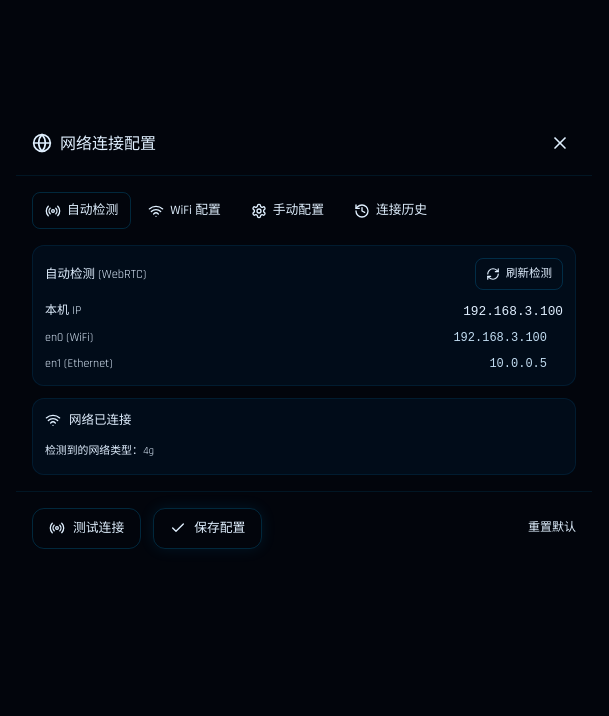
NetworkConfig › WiFi 扫描与连接 › 连接 WiFi: 输入密码后应持久化连接状态
The width and height of the screenshot is (609, 716).
Click the button "WiFi 配置" at (184, 211), box [135,192,234,229]
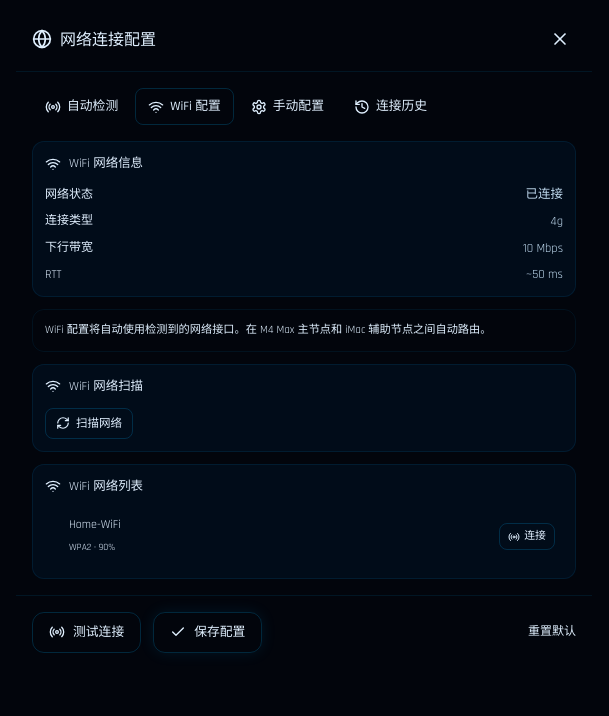
Expected: the text "Home-WiFi" is shown, [69,516,121,534]
Click the button "连接" at (527, 537), box [499,523,555,550]
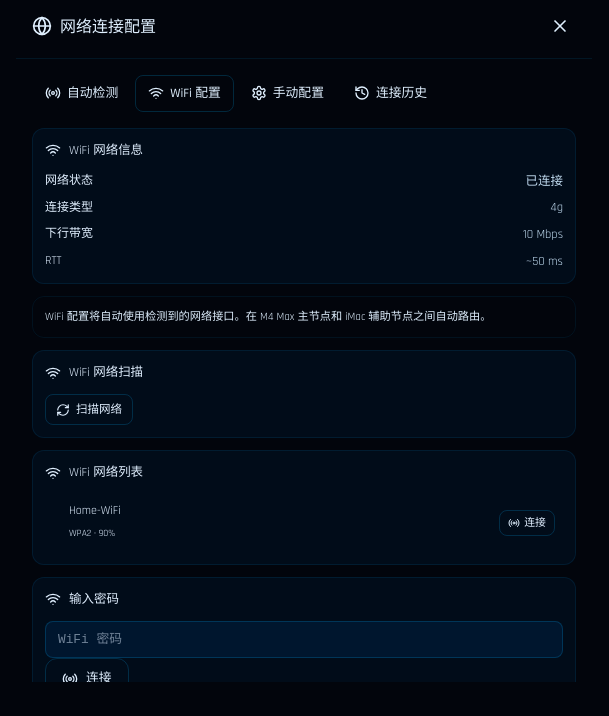
Expected: the text "输入密码" is shown, [69,590,119,609]
Type "pw-123" into the password field with placeholder "WiFi 密码" at (304, 639), box [45,621,563,658]
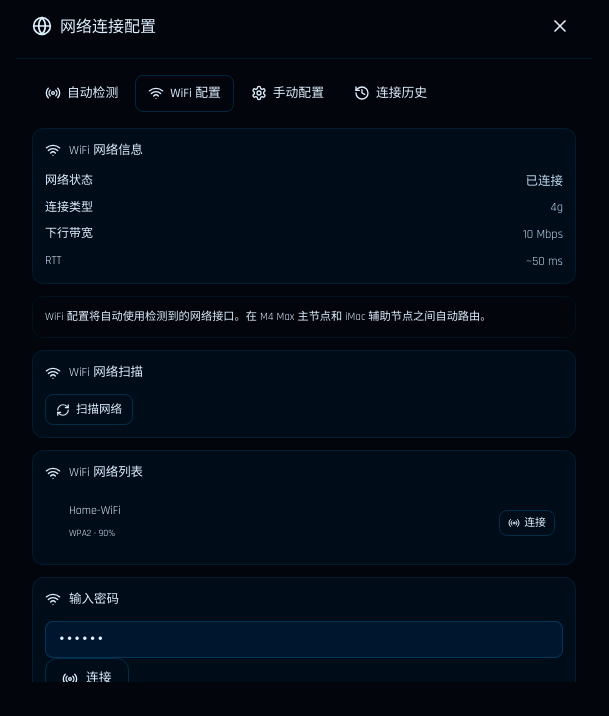
Click the button "连接" below "输入密码" at (87, 678), box [45,658,129,699]
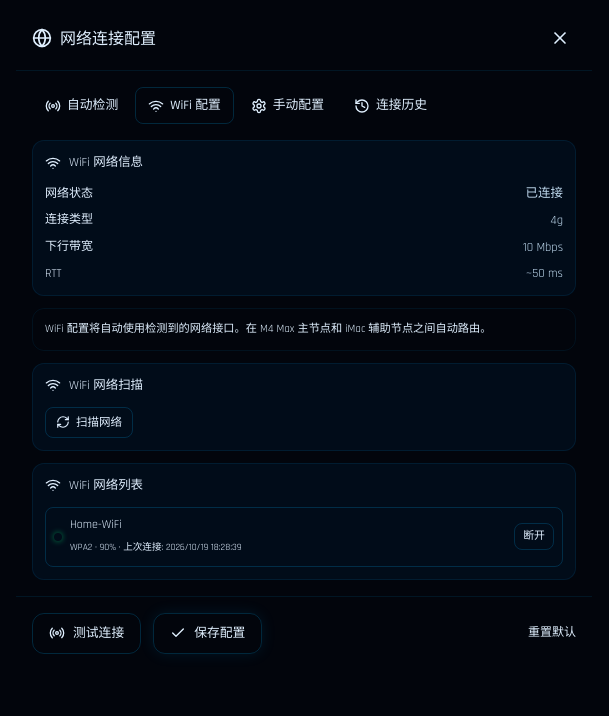
Expected: the button "断开" is shown, [514,523,554,550]
